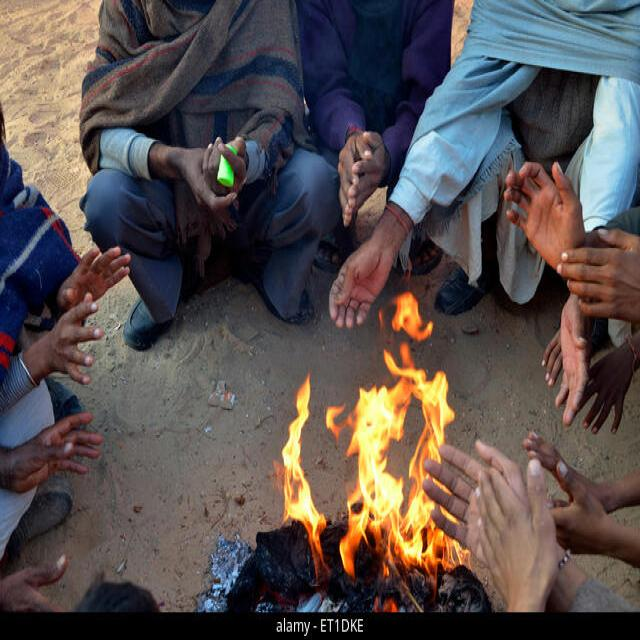fire: (270, 372, 332, 596), (347, 371, 456, 492), (339, 491, 471, 581), (379, 292, 433, 376)
